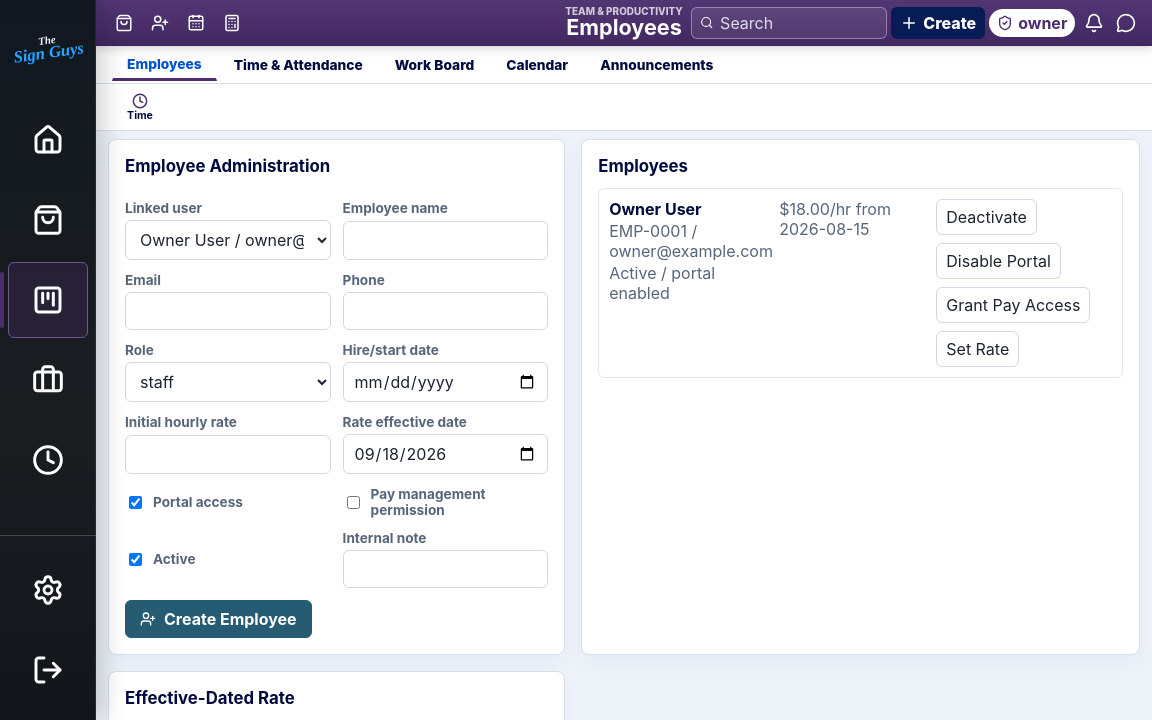
Test: Version 2 Stage 1-8 navigation boundary › refreshes session capabilities after current-user pay access changes
The image size is (1152, 720).
Expected: the heading "Employee Administration" is shown, [125,156,330,176]
Expected: the link "Payroll" is not shown
Click the button "Grant Pay Access" at x=1013, y=305, box [936,287,1090,323]
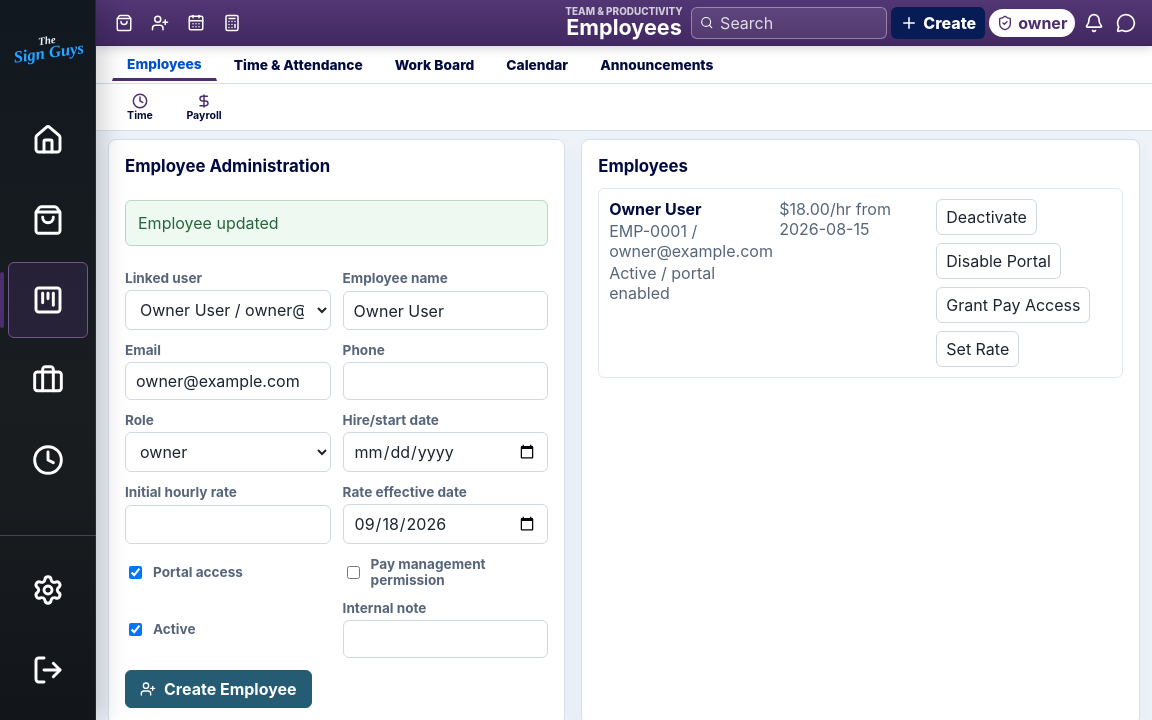
Result: the link "Payroll" is shown at [186,93,222,122]
